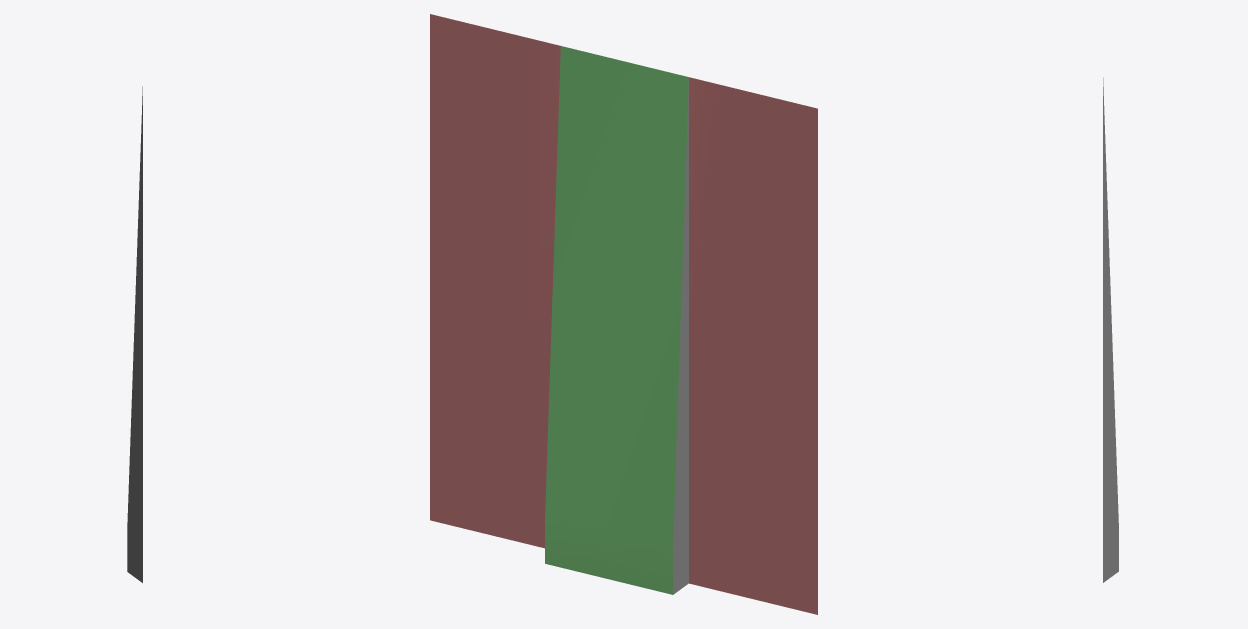
The model's file is SSQ_dungeon_S__SSQ_Room01_Gatedoor.gltf.
3 views of the same model, side by side, from view 1: azimuth 30°, elevation 25°; view 2: azimuth 150°, elevation 25°; view 3: azimuth 330°, elevation 25° (orthographic).
Parts seen in each view (by area): view 1: SSQ_Room01_Gatedoor; view 2: SSQ_Room01_Gatedoor; view 3: SSQ_Room01_Gatedoor.
Boxes of the visible parts, x1,y1,x2,y2 form: SSQ_Room01_Gatedoor: [127, 86, 142, 582]; SSQ_Room01_Gatedoor: [430, 14, 817, 614]; SSQ_Room01_Gatedoor: [1103, 77, 1118, 582].
Bounding box in the file's own units: 2.62 × 3.27 × 0.1835.
